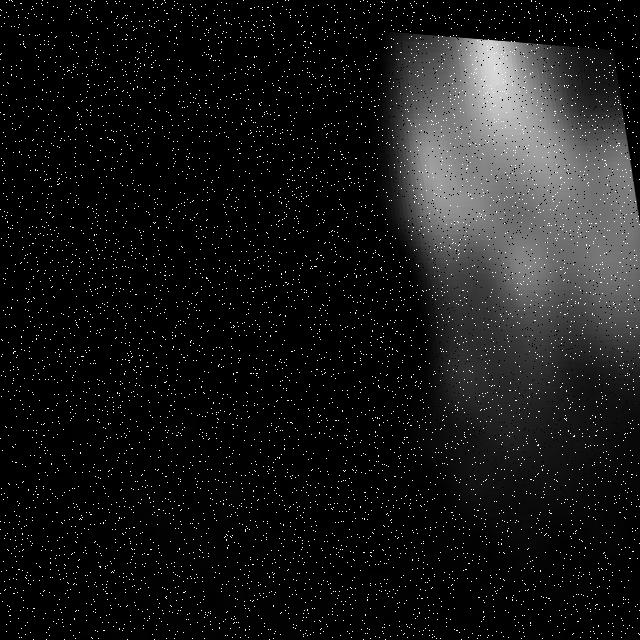person: (367, 24, 640, 476)
